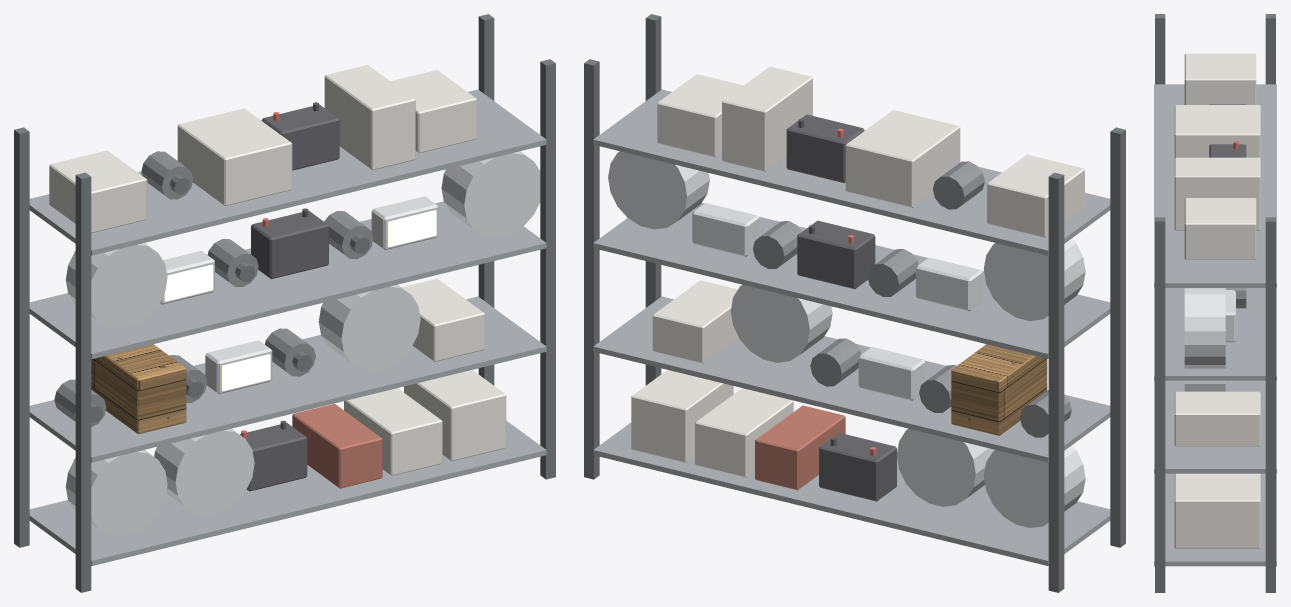
File: parts_rack.glb
The picture shows the model from 3 angles, left to right: view 1: azimuth 30°, elevation 25°; view 2: azimuth 150°, elevation 25°; view 3: azimuth 270°, elevation 25°; orthographic projection. The views are drawn at different scales.
Visible parts, largest first — view 1: parts_rack_steel, parts_rack_paper, parts_rack_chrome, parts_rack_steel_d, parts_rack_battery, parts_rack_engine, parts_rack_pallet, parts_rack_engine_r, parts_rack_lamp_glass; view 2: parts_rack_steel, parts_rack_paper, parts_rack_chrome, parts_rack_steel_d, parts_rack_battery, parts_rack_engine, parts_rack_pallet, parts_rack_engine_r; view 3: parts_rack_paper, parts_rack_steel, parts_rack_steel_d, parts_rack_chrome, parts_rack_battery, parts_rack_engine.
Part boxes in pixels (left/top/right/bottom): parts_rack_steel: left=29, top=89, right=546, bottom=565; parts_rack_paper: left=49, top=65, right=506, bottom=475; parts_rack_chrome: left=65, top=151, right=540, bottom=536; parts_rack_steel_d: left=14, top=14, right=555, bottom=592; parts_rack_battery: left=240, top=104, right=339, bottom=491; parts_rack_engine: left=54, top=151, right=373, bottom=426; parts_rack_pallet: left=91, top=344, right=186, bottom=434; parts_rack_engine_r: left=292, top=403, right=382, bottom=488; parts_rack_lamp_glass: left=164, top=210, right=436, bottom=391; parts_rack_steel: left=593, top=89, right=1110, bottom=565; parts_rack_paper: left=631, top=66, right=1084, bottom=477; parts_rack_chrome: left=608, top=151, right=1085, bottom=527; parts_rack_steel_d: left=584, top=14, right=1125, bottom=592; parts_rack_battery: left=786, top=114, right=896, bottom=501; parts_rack_engine: left=753, top=161, right=1071, bottom=437; parts_rack_pallet: left=951, top=344, right=1047, bottom=435; parts_rack_engine_r: left=755, top=405, right=845, bottom=490; parts_rack_paper: left=1174, top=53, right=1260, bottom=548; parts_rack_steel: left=1154, top=84, right=1276, bottom=566; parts_rack_steel_d: left=1155, top=14, right=1275, bottom=592; parts_rack_chrome: left=1184, top=288, right=1235, bottom=391; parts_rack_battery: left=1209, top=144, right=1246, bottom=157; parts_rack_engine: left=1209, top=104, right=1246, bottom=308.
Bounding box in the file's own units: 2.42 × 2 × 0.6.
Materials: 11 (1 with a texture image).
